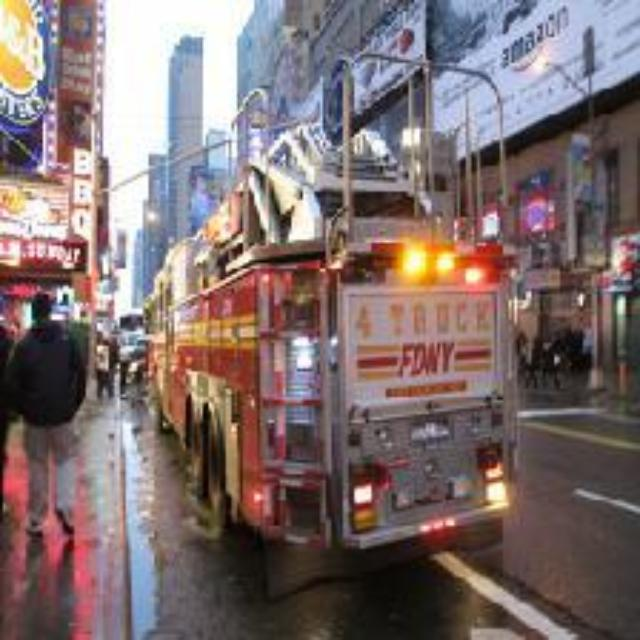emergency: (155, 180, 520, 554)
